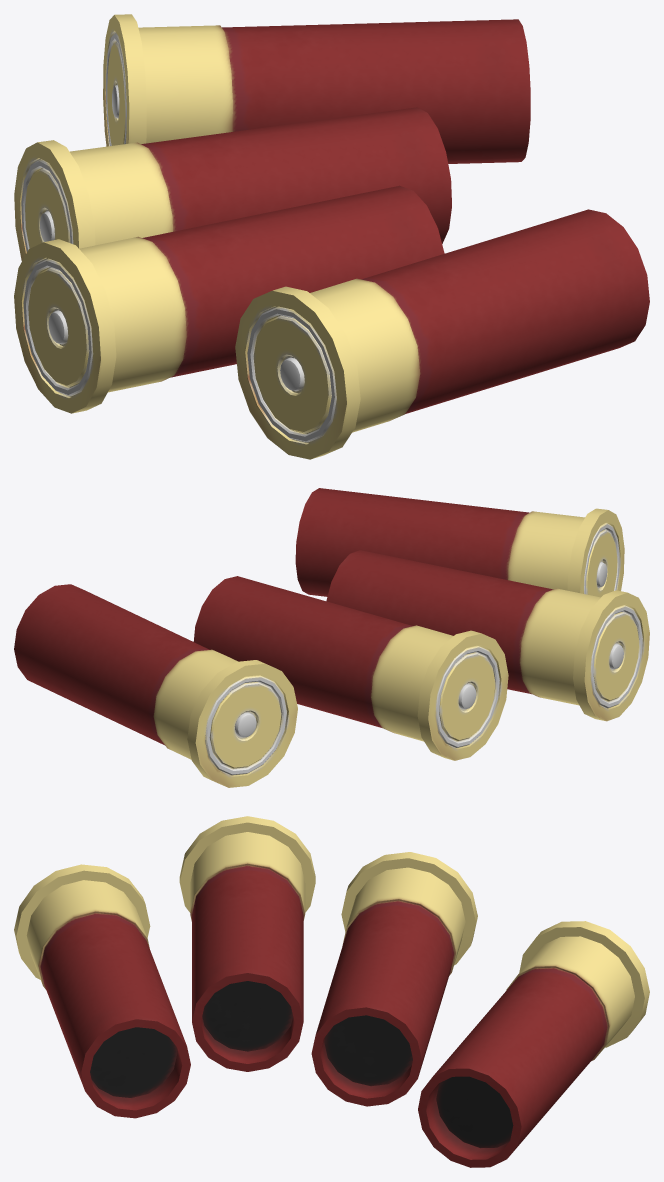
The model's file is ShotGunShellComplete.fbx.
3 views of the same model, one above another, from view 1: azimuth 30°, elevation 25°; view 2: azimuth 150°, elevation 25°; view 3: azimuth 270°, elevation 25° (orthographic). The views are drawn at different scales.
Visible parts, largest first — view 1: ShotGunShell.001, ShotGunShell, ShotGunShell.003, ShotGunShell.002; view 2: ShotGunShell.002, ShotGunShell.003, ShotGunShell, ShotGunShell.001; view 3: ShotGunShell.003, ShotGunShell.001, ShotGunShell.002, ShotGunShell.
Boxes of the visible parts, x1,y1,x2,y2 form: ShotGunShell.001: (235, 209, 649, 459); ShotGunShell: (14, 185, 444, 413); ShotGunShell.003: (103, 14, 530, 163); ShotGunShell.002: (14, 107, 451, 260); ShotGunShell.002: (193, 576, 508, 760); ShotGunShell.003: (14, 584, 297, 787); ShotGunShell: (326, 550, 649, 721); ShotGunShell.001: (295, 488, 624, 597); ShotGunShell.003: (418, 921, 649, 1167); ShotGunShell.001: (14, 864, 190, 1118); ShotGunShell.002: (311, 852, 477, 1106); ShotGunShell: (179, 816, 315, 1071).
Bounding box in the file's own units: 8.13 × 1.95 × 9.1.
1 material, 1 textured.
